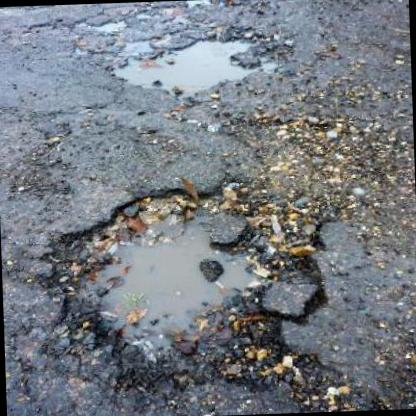pothole: (32, 184, 346, 407), (102, 26, 294, 98)
